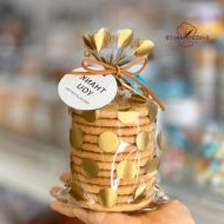snack: (50, 20, 178, 218)
